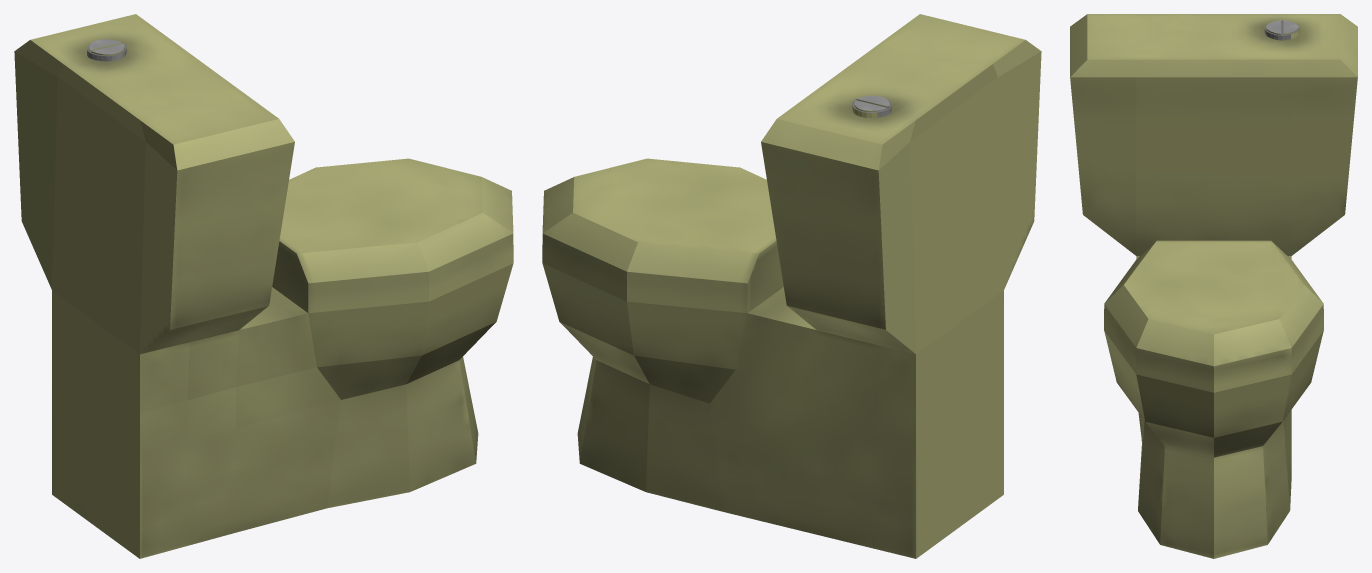
The model's file is toilet.fbx.
3 renders of one model, left to right at view 1: azimuth 30°, elevation 25°; view 2: azimuth 150°, elevation 25°; view 3: azimuth 270°, elevation 25°, orthographic. The views are drawn at different scales.
Parts seen in each view (by area): view 1: toilet; view 2: toilet; view 3: toilet.
Boxes of the visible parts, x1,y1,x2,y2 form: toilet: (14, 14, 513, 558); toilet: (542, 14, 1041, 558); toilet: (1070, 14, 1357, 558).
Size of the model in its own units: 0.9558 by 0.9646 by 0.6478.
1 material, 1 textured.
